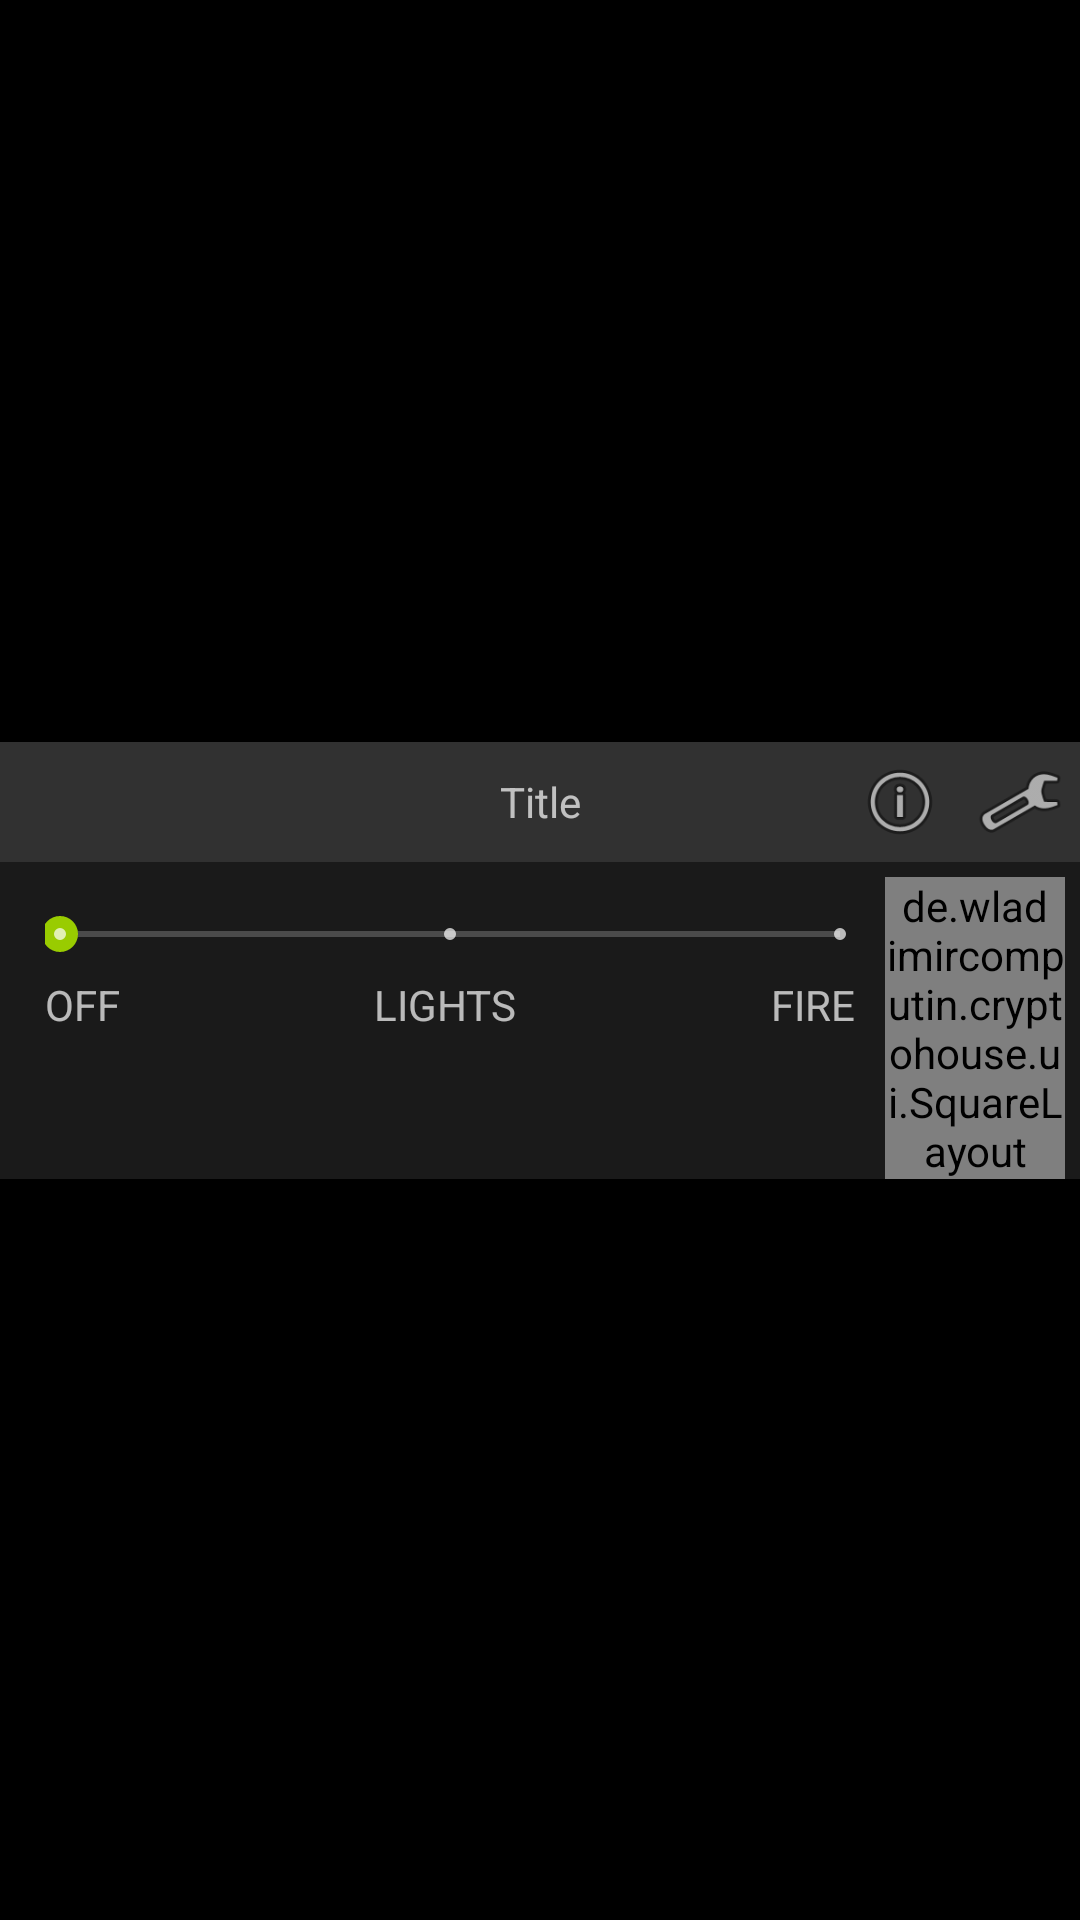

Where to tap for icons on this 1080 × 1920 app screen, as [x,y]:
info details: [900,802]
manage: [1020,802]
